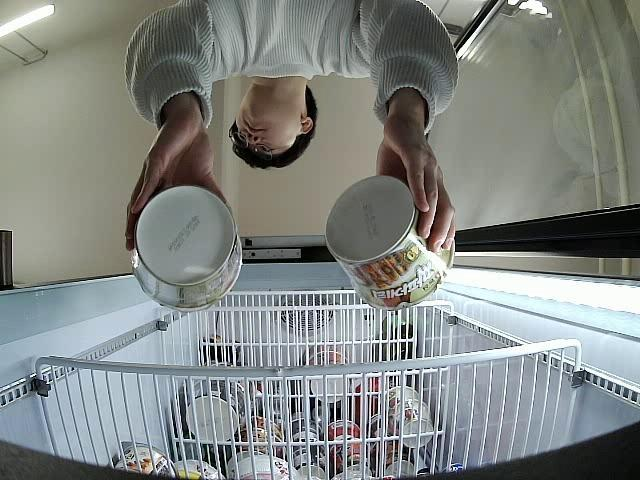03_chapagetti_L: (323, 174, 455, 308), (130, 183, 244, 308)
